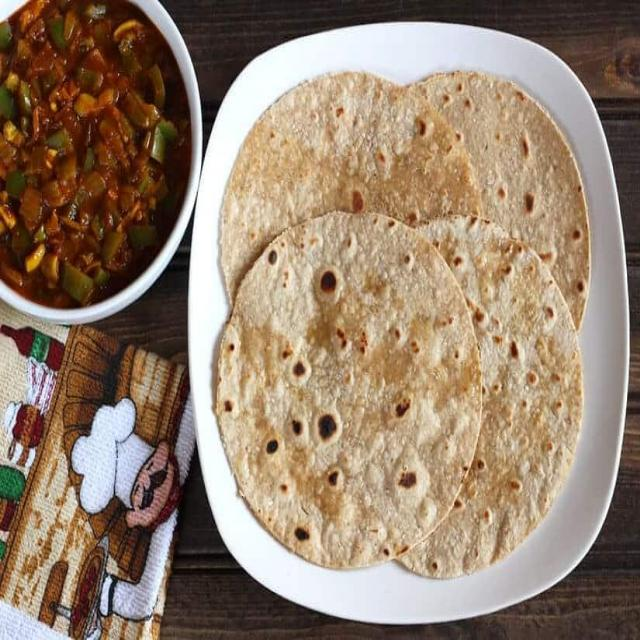roti: (217, 71, 590, 576)
